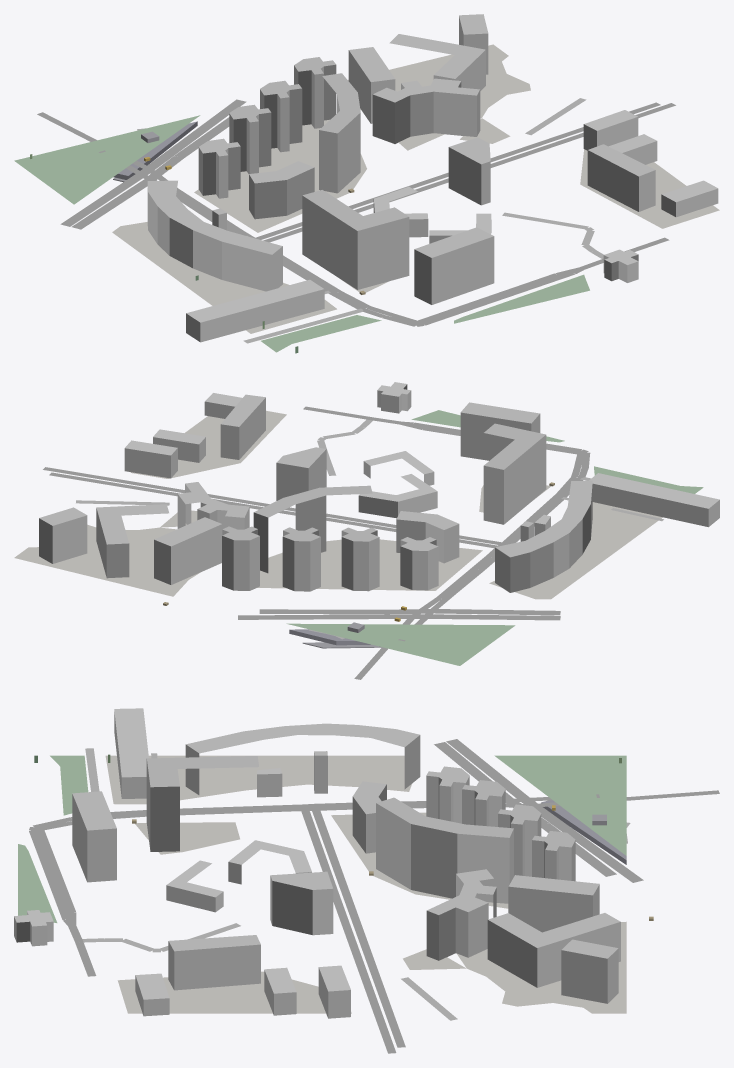
3 views of the same model, one above another, from view 1: azimuth 30°, elevation 25°; view 2: azimuth 150°, elevation 25°; view 3: azimuth 270°, elevation 25° (orthographic). The views are drawn at different scales.
Size of the model in its own units: 628 by 76.13 by 580.
